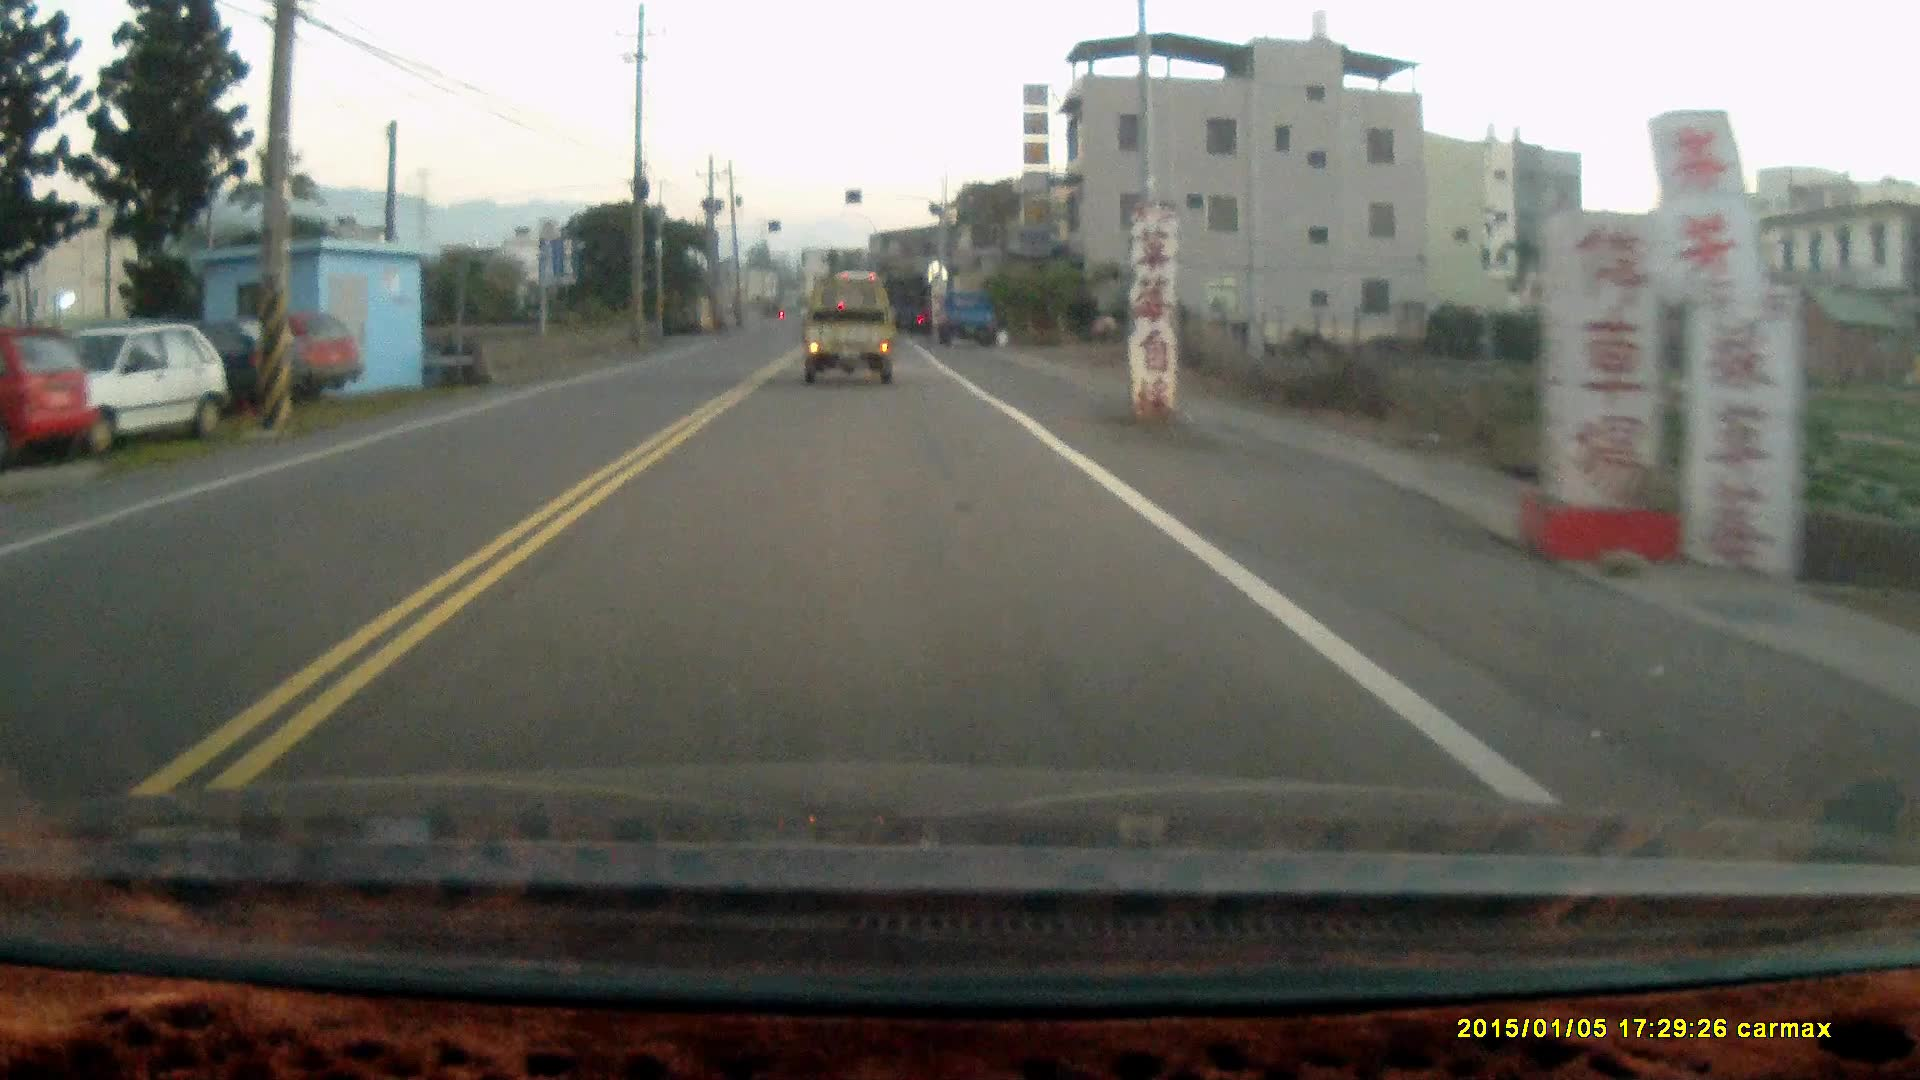vehicle: (7, 320, 219, 448), (177, 298, 371, 392), (1, 318, 113, 456), (802, 272, 901, 392), (938, 286, 1006, 343)
